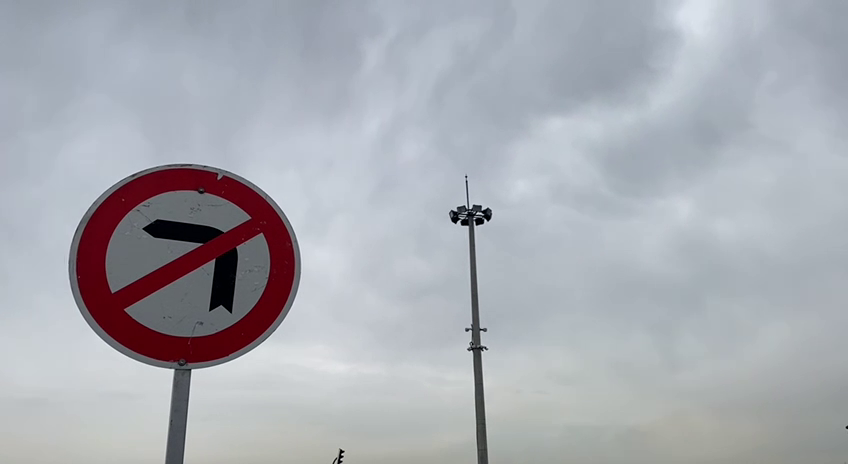noTurnLeft: (64, 155, 305, 378)
